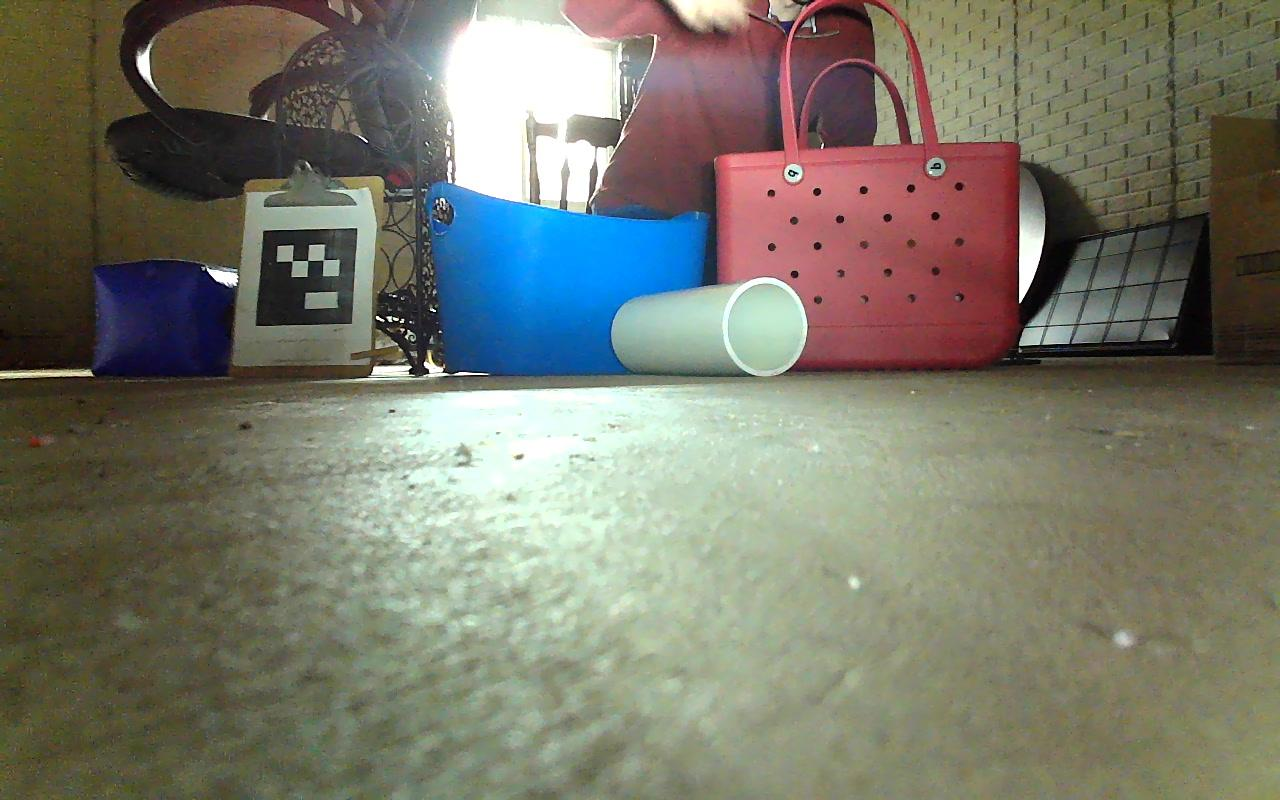coral: (612, 276, 807, 376)
